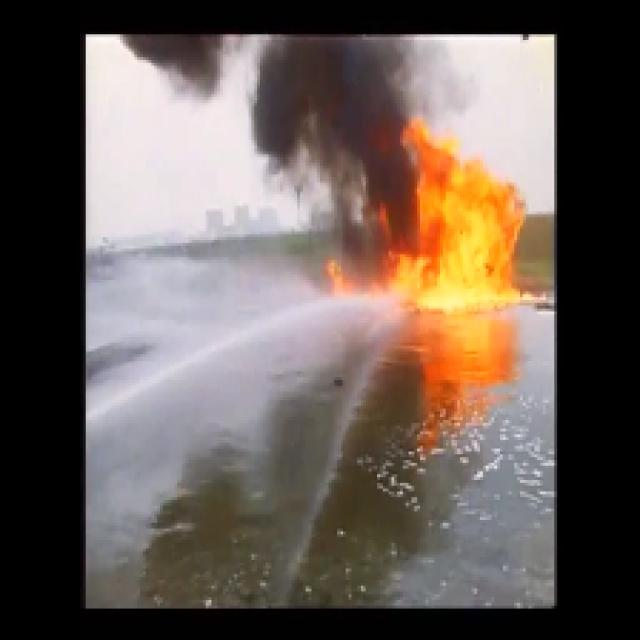fire: (414, 166, 514, 298)
smoke: (264, 42, 381, 137)
